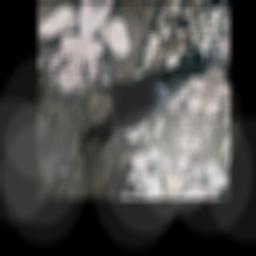Crow: (51, 19, 217, 168)
